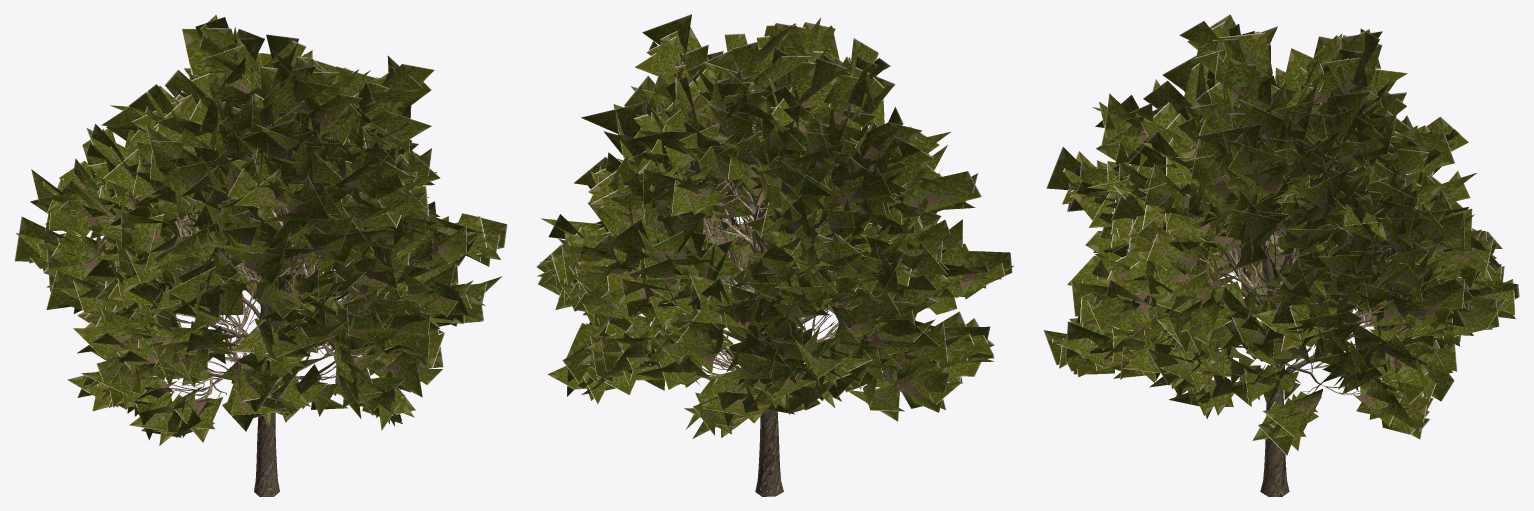
File: tree2.glb
3 renders of one model, left to right at view 1: azimuth 30°, elevation 25°; view 2: azimuth 150°, elevation 25°; view 3: azimuth 270°, elevation 25°, orthographic. The views are drawn at different scales.
Visible parts, largest first — view 1: mesh_1; view 2: mesh_1; view 3: mesh_1.
Part boxes in pixels (<box>): mesh_1: <box>14,14,507,496</box>; mesh_1: <box>536,14,1014,496</box>; mesh_1: <box>1043,14,1519,496</box>.
Bounding box in the file's own units: 70.32 × 75.02 × 70.59.
Materials: 10 (3 with a texture image).
